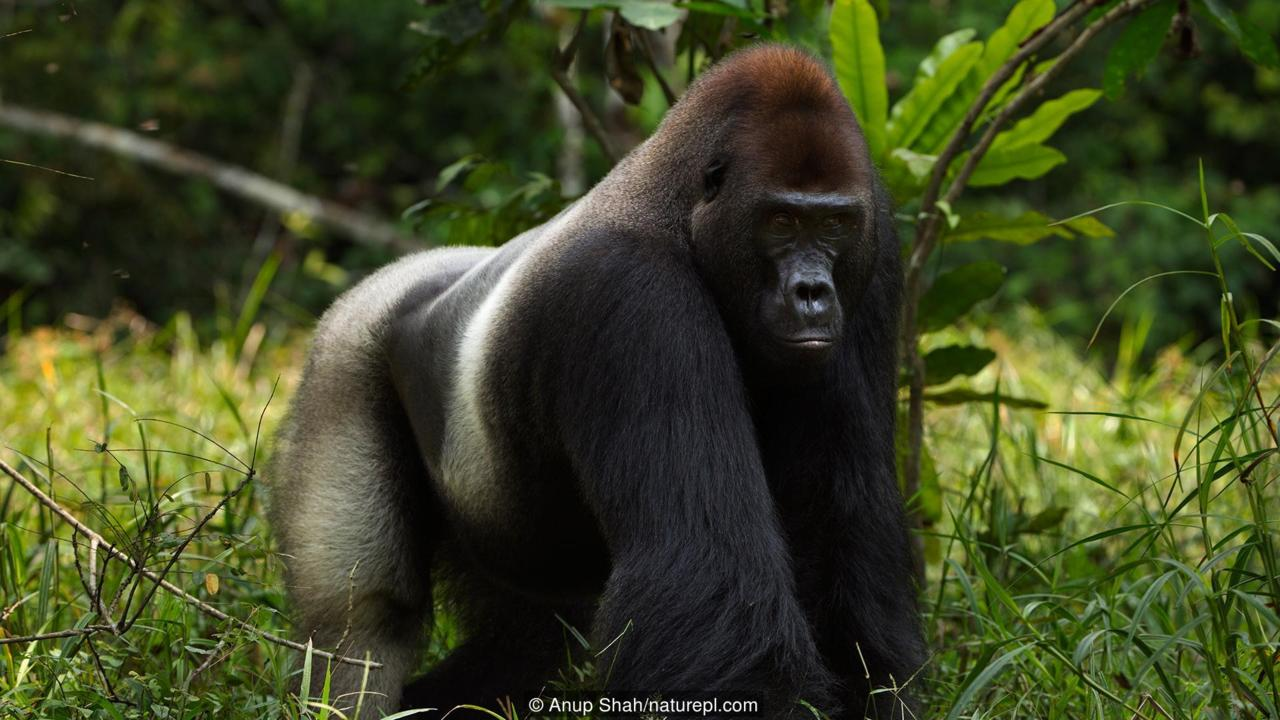Goriila: (248, 26, 977, 720)
